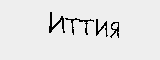И: (48, 11, 64, 35), (95, 17, 110, 38)
Т: (65, 16, 80, 37), (80, 17, 94, 37)
Я: (108, 22, 124, 39)
